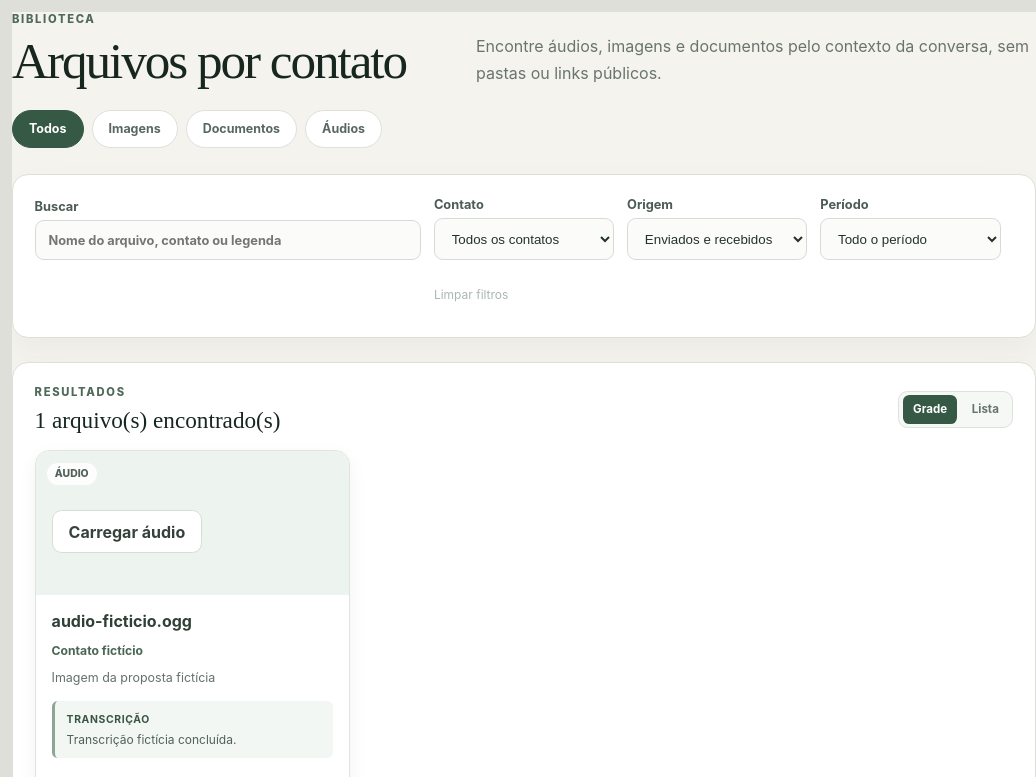
it: arquivos por contato › alterna para lista e apresenta transcrição de áudio concluída
Expected: the text "Transcrição fictícia concluída." is shown, top-left (67, 732), bottom-right (236, 747)
Click the button "Lista": (985, 410) top-left (961, 395), bottom-right (1009, 424)
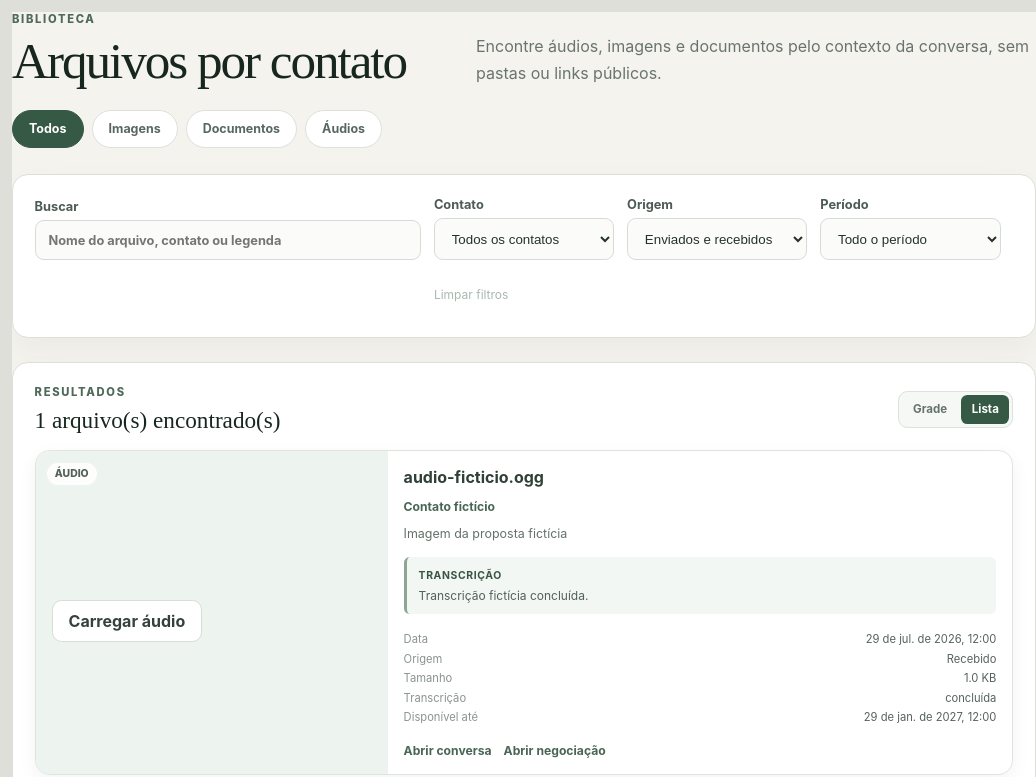
Result: the element with class "file-view-list" is shown at top-left (35, 450), bottom-right (1013, 775)
